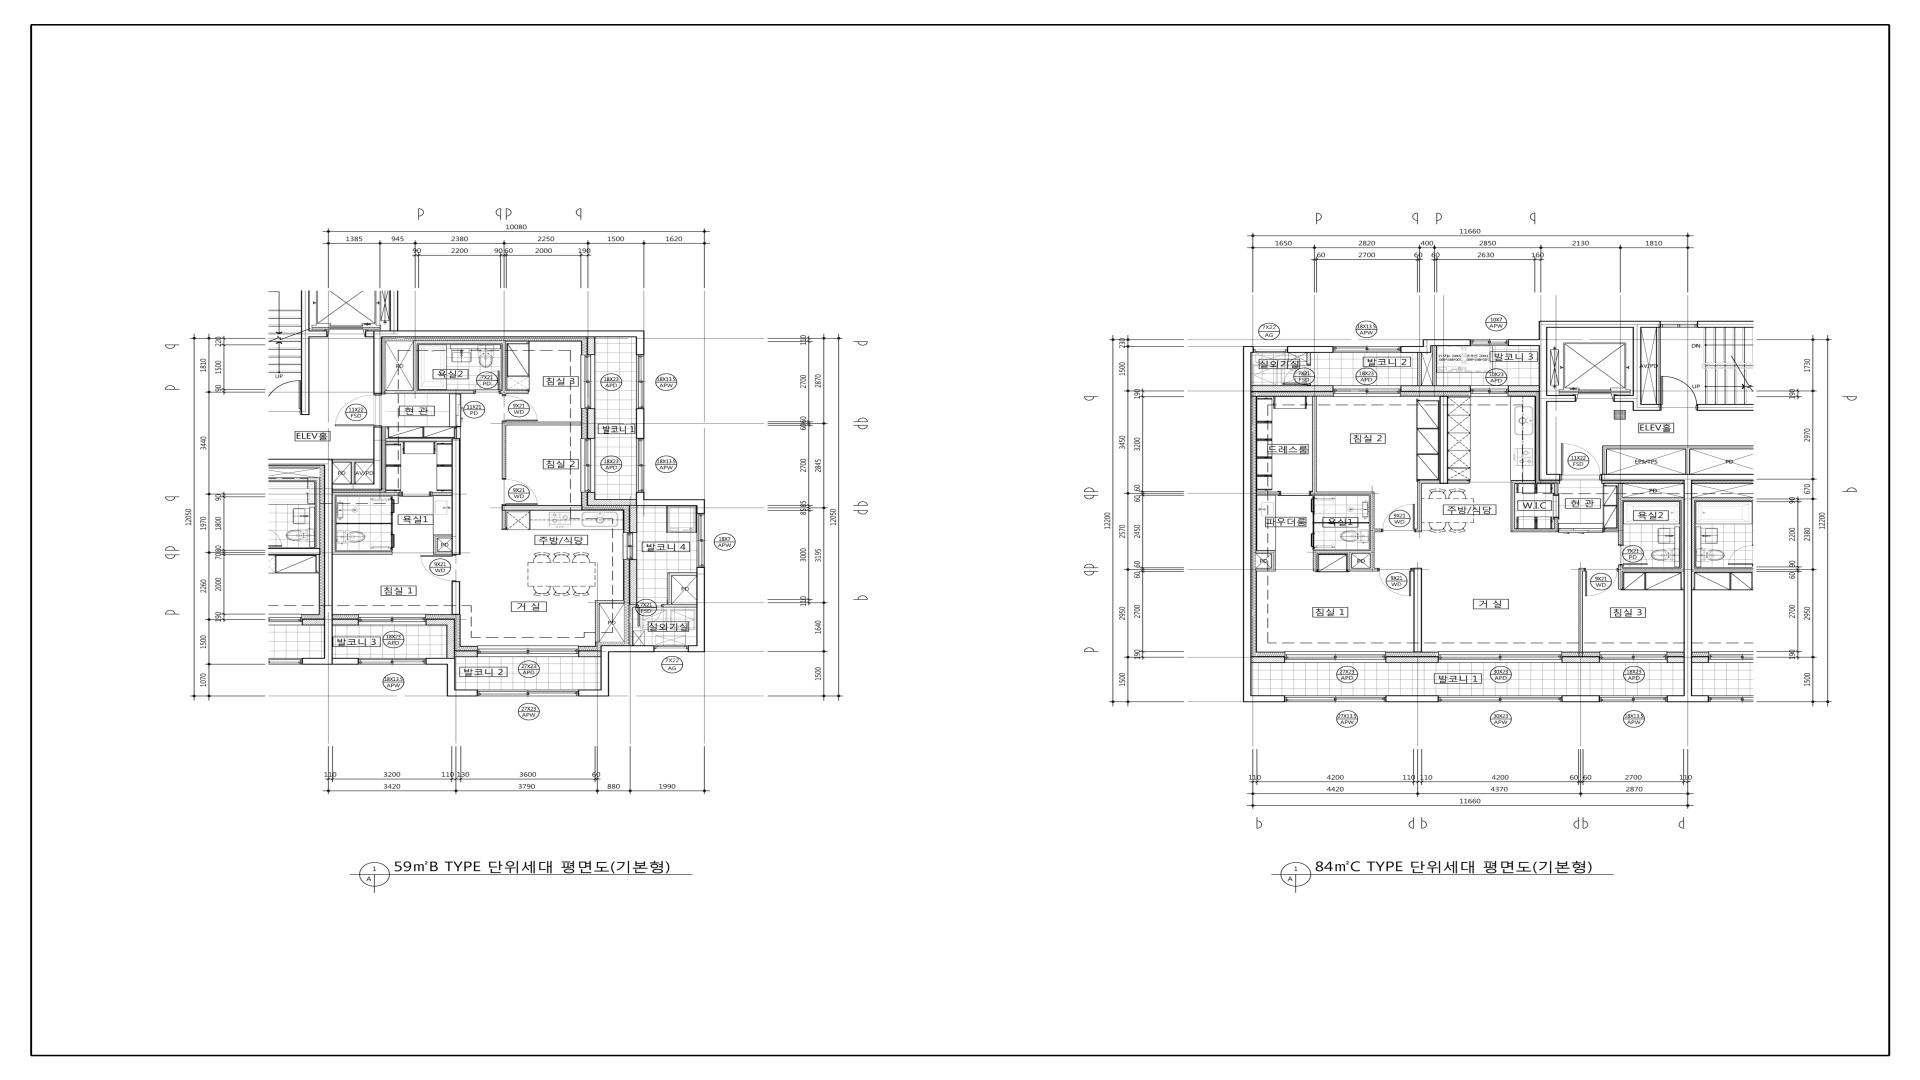door: (335, 394, 382, 427), (1560, 443, 1601, 480), (1660, 376, 1697, 411), (268, 381, 302, 414), (1382, 504, 1416, 533), (1378, 568, 1414, 596), (502, 394, 538, 422), (501, 479, 538, 505), (1584, 568, 1618, 596), (421, 555, 456, 582), (1618, 545, 1648, 566), (473, 371, 500, 394), (637, 604, 663, 628), (1282, 364, 1311, 385), (1311, 496, 1336, 514), (1311, 531, 1336, 550), (456, 393, 462, 427), (1559, 529, 1604, 533), (1553, 493, 1560, 520), (400, 492, 433, 497), (1279, 491, 1311, 496)
wall: (1242, 345, 1254, 702), (381, 330, 636, 338), (1684, 481, 1692, 695), (324, 465, 332, 665), (1539, 328, 1547, 480), (301, 290, 310, 415), (451, 438, 460, 555), (1601, 473, 1754, 480), (1539, 320, 1660, 327), (1633, 327, 1642, 411), (696, 567, 705, 646), (1440, 396, 1448, 484), (1414, 568, 1422, 653), (1602, 446, 1754, 450), (1251, 385, 1333, 392), (373, 427, 382, 484), (373, 331, 381, 394), (600, 645, 609, 696), (1578, 568, 1584, 657), (636, 500, 705, 506), (1400, 385, 1470, 392), (1697, 320, 1754, 328), (1697, 404, 1754, 411), (268, 459, 332, 465), (501, 505, 582, 510), (1386, 695, 1439, 703), (587, 498, 636, 506), (1312, 397, 1316, 492), (1287, 345, 1333, 353), (629, 559, 637, 604), (385, 390, 473, 394), (1386, 657, 1439, 663), (417, 340, 502, 344), (1667, 695, 1709, 703), (332, 484, 382, 491), (390, 290, 398, 331), (1423, 339, 1470, 345), (446, 625, 455, 658), (451, 582, 460, 615), (1656, 327, 1660, 404), (1561, 695, 1600, 703), (609, 645, 654, 651), (501, 340, 506, 396), (1370, 496, 1374, 568), (636, 409, 645, 439), (413, 340, 418, 390), (1251, 695, 1284, 703), (1416, 484, 1422, 533), (335, 492, 400, 496), (1561, 657, 1600, 663), (1311, 492, 1374, 496), (332, 492, 336, 554), (1400, 345, 1431, 353), (1618, 484, 1622, 545), (587, 409, 595, 439), (1623, 497, 1681, 501), (1313, 550, 1370, 554), (502, 422, 506, 479), (595, 600, 600, 642), (336, 551, 392, 555), (629, 505, 637, 533), (636, 331, 645, 355), (1251, 657, 1284, 663), (1507, 339, 1539, 345), (1432, 345, 1437, 385), (447, 690, 477, 696), (1509, 385, 1539, 392), (506, 422, 582, 425), (447, 665, 455, 690), (1547, 396, 1576, 402), (426, 658, 455, 665), (426, 618, 455, 625), (1681, 497, 1684, 568), (1511, 529, 1559, 533), (1511, 484, 1515, 529), (386, 439, 452, 442), (332, 618, 359, 625), (332, 658, 359, 665), (667, 572, 673, 604), (1622, 568, 1684, 571), (332, 459, 373, 463), (578, 690, 600, 696), (455, 650, 477, 657), (578, 650, 600, 657), (1642, 404, 1660, 411), (629, 608, 633, 645), (587, 338, 595, 355), (688, 645, 705, 653), (1602, 450, 1607, 473), (1685, 450, 1691, 473), (1618, 566, 1623, 589), (1418, 353, 1422, 385), (1614, 396, 1633, 402), (1667, 657, 1684, 663), (310, 331, 327, 338), (351, 463, 356, 484), (433, 534, 438, 554), (1511, 480, 1536, 484), (1255, 492, 1279, 496), (673, 572, 696, 576), (600, 600, 624, 604), (506, 390, 529, 394), (1418, 480, 1440, 484), (1547, 473, 1560, 480), (663, 604, 696, 607), (1448, 480, 1469, 484), (1348, 568, 1378, 571), (1255, 550, 1275, 554), (433, 492, 452, 496), (502, 510, 506, 529), (636, 492, 645, 500), (1315, 522, 1369, 524), (1313, 554, 1317, 571), (1271, 554, 1275, 571), (587, 492, 595, 500), (696, 506, 704, 514), (1348, 554, 1352, 568), (1604, 529, 1618, 533), (438, 534, 451, 538), (365, 331, 373, 338), (1553, 520, 1559, 529), (1553, 484, 1559, 493), (1312, 514, 1315, 531), (1255, 568, 1271, 571), (456, 427, 460, 438), (1307, 353, 1311, 364), (438, 551, 451, 554), (1374, 529, 1382, 533), (629, 604, 637, 608)
window: (1439, 651, 1563, 663), (1284, 651, 1386, 663), (477, 646, 579, 657), (1439, 695, 1561, 702), (1600, 651, 1667, 663), (359, 613, 426, 625), (1333, 385, 1400, 397), (580, 355, 595, 409), (580, 439, 595, 492), (1284, 695, 1386, 702), (477, 690, 578, 696), (1470, 385, 1509, 397), (1600, 695, 1667, 702), (359, 658, 426, 665), (696, 513, 704, 567), (637, 355, 645, 409), (637, 439, 645, 492), (622, 533, 637, 559), (1333, 347, 1400, 352), (1470, 339, 1507, 345), (1660, 320, 1697, 327), (654, 646, 688, 651), (1254, 347, 1287, 352)
